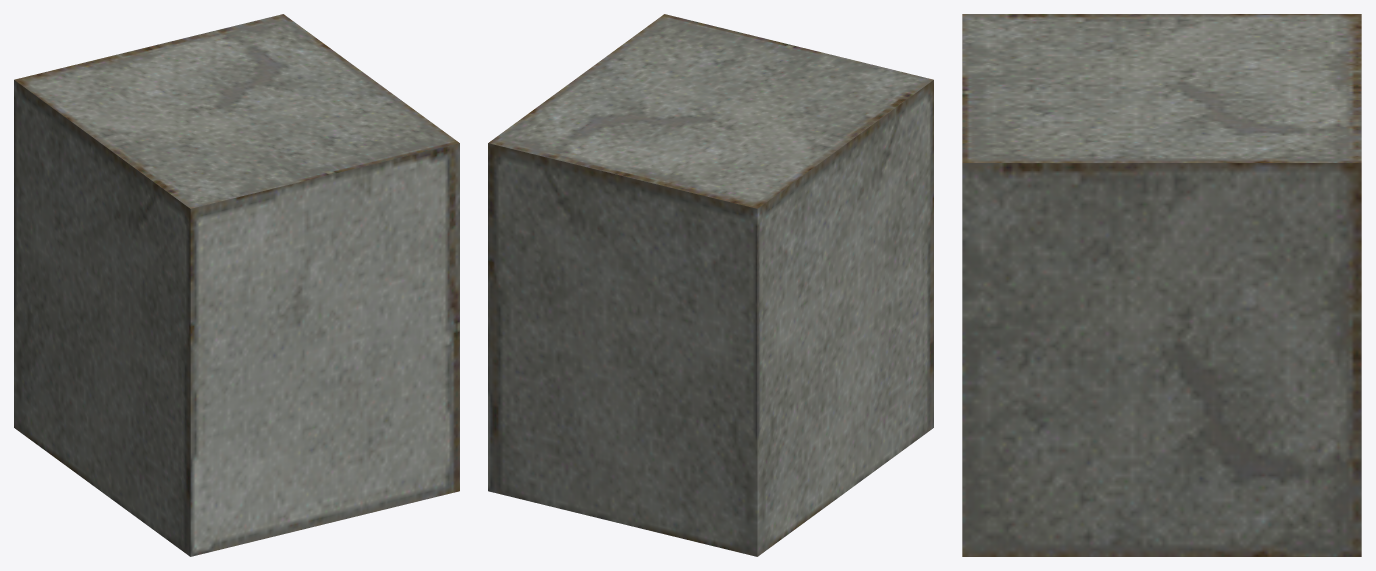
File: plinth_block_b.fbx
3 renders of one model, left to right at view 1: azimuth 30°, elevation 25°; view 2: azimuth 150°, elevation 25°; view 3: azimuth 270°, elevation 25°, orthographic. The views are drawn at different scales.
Parts seen in each view (by area): view 1: plinth_block_b; view 2: plinth_block_b; view 3: plinth_block_b.
Boxes of the visible parts, bbox=[...] form: plinth_block_b: bbox=[14, 14, 459, 556]; plinth_block_b: bbox=[488, 14, 933, 556]; plinth_block_b: bbox=[962, 14, 1361, 556].
Bounding box in the file's own units: 21.6 × 26.67 × 24.5.
